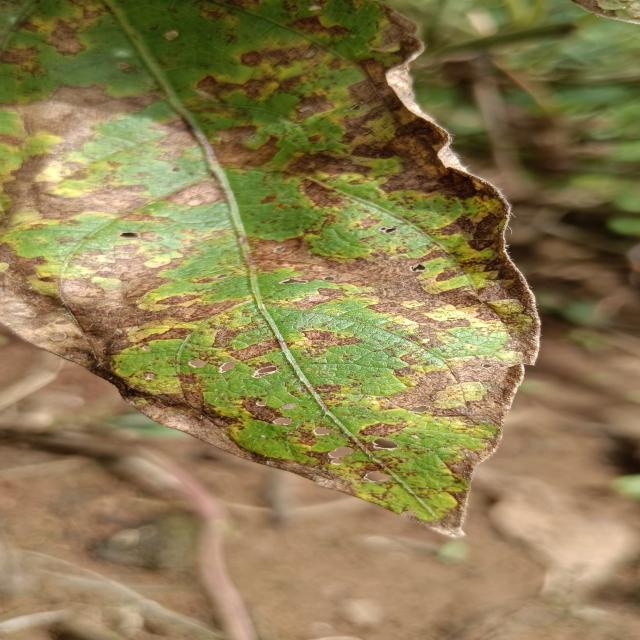Black gram_leaf spot: (0, 0, 556, 537)
